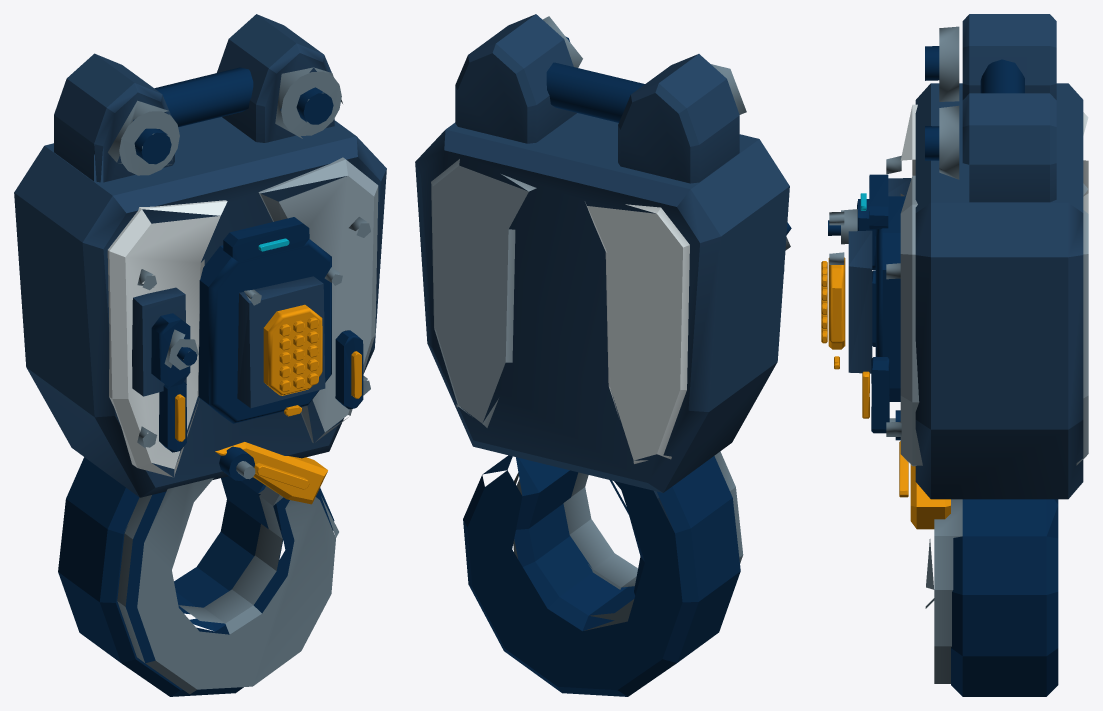
File: crochet-grue.glb
3 views of the same model, side by side, from view 1: azimuth 30°, elevation 25°; view 2: azimuth 150°, elevation 25°; view 3: azimuth 270°, elevation 25° (orthographic).
Visible parts, largest first — view 1: housing__bleu_nuit, hook__bleu_fonce, housing__bleu_nuit2, hook__bleu_nuit2, housing__blanc, housing__bleu_pale, housing__bleu_fonce, housing__orange, housing__lum_orange, safety_latch__orange, safety_latch__bleu_nuit2, safety_latch__lum_orange; view 2: housing__bleu_nuit, hook__bleu_nuit2, housing__blanc, housing__bleu_pale, hook__bleu_fonce, housing__bleu_nuit2, housing__bleu_fonce; view 3: housing__bleu_nuit, hook__bleu_nuit2, housing__bleu_nuit2, housing__bleu_pale, housing__bleu_fonce, hook__bleu_fonce, housing__orange, safety_latch__orange, housing__lum_orange, housing__blanc, safety_latch__lum_orange.
Boxes of the visible parts, x1,y1,x2,y2 form: housing__bleu_nuit: [14, 14, 386, 497]; hook__bleu_fonce: [117, 478, 338, 694]; housing__bleu_nuit2: [134, 67, 363, 452]; hook__bleu_nuit2: [58, 457, 334, 696]; housing__blanc: [107, 200, 227, 477]; housing__bleu_pale: [258, 157, 378, 442]; housing__bleu_fonce: [108, 67, 370, 448]; housing__orange: [263, 304, 322, 395]; housing__lum_orange: [175, 317, 361, 441]; safety_latch__orange: [215, 442, 327, 504]; safety_latch__bleu_nuit2: [219, 446, 254, 480]; safety_latch__lum_orange: [254, 463, 309, 489]; housing__bleu_nuit: [415, 14, 789, 492]; hook__bleu_nuit2: [463, 455, 740, 696]; housing__blanc: [585, 202, 689, 463]; housing__bleu_pale: [431, 159, 536, 427]; hook__bleu_fonce: [513, 451, 743, 630]; housing__bleu_nuit2: [546, 36, 791, 271]; housing__bleu_fonce: [542, 16, 790, 250]; housing__bleu_nuit: [848, 14, 1083, 499]; hook__bleu_nuit2: [951, 499, 1058, 696]; housing__bleu_nuit2: [828, 46, 1024, 433]; housing__bleu_pale: [900, 175, 1088, 466]; housing__bleu_fonce: [829, 26, 959, 436]; hook__bleu_fonce: [925, 499, 962, 683]; housing__orange: [828, 257, 845, 349]; safety_latch__orange: [910, 464, 950, 529]; housing__lum_orange: [821, 261, 869, 418]; housing__blanc: [900, 104, 1088, 213]; safety_latch__lum_orange: [899, 441, 908, 497].
Bounding box in the file's own units: 0.5545 × 1.1 × 0.4195.
